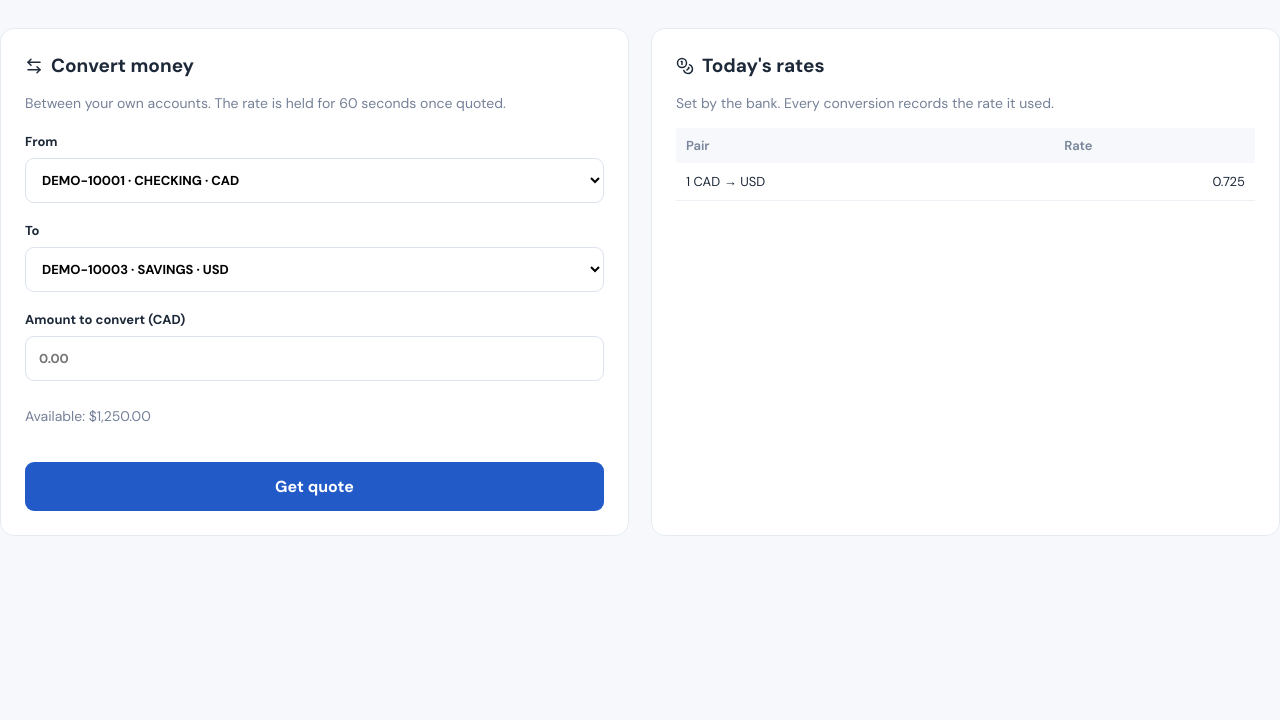
Test: Exchange › quotes, then converts at exactly the quoted rate
The width and height of the screenshot is (1280, 720).
Type "100" into the number field labelled "Amount to convert (CAD)" at (314, 359), box [25, 336, 604, 381]
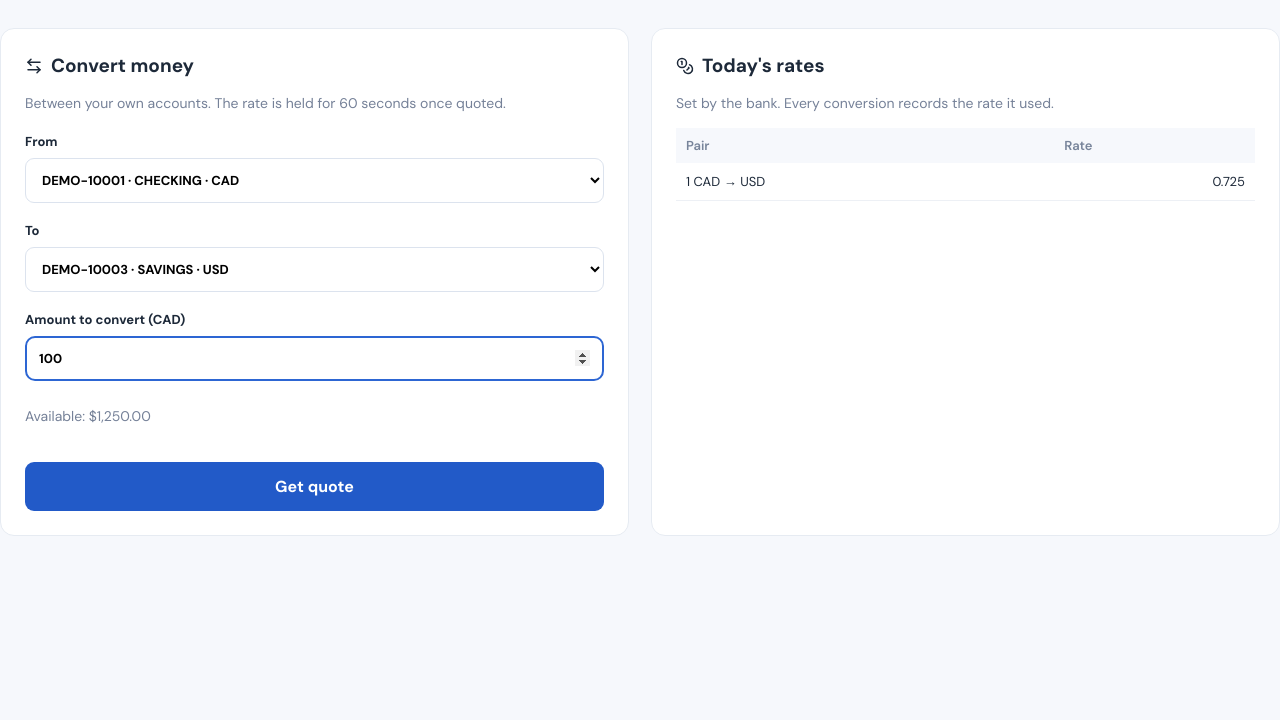
Click the button "Get quote" at (314, 486), box [25, 462, 604, 511]
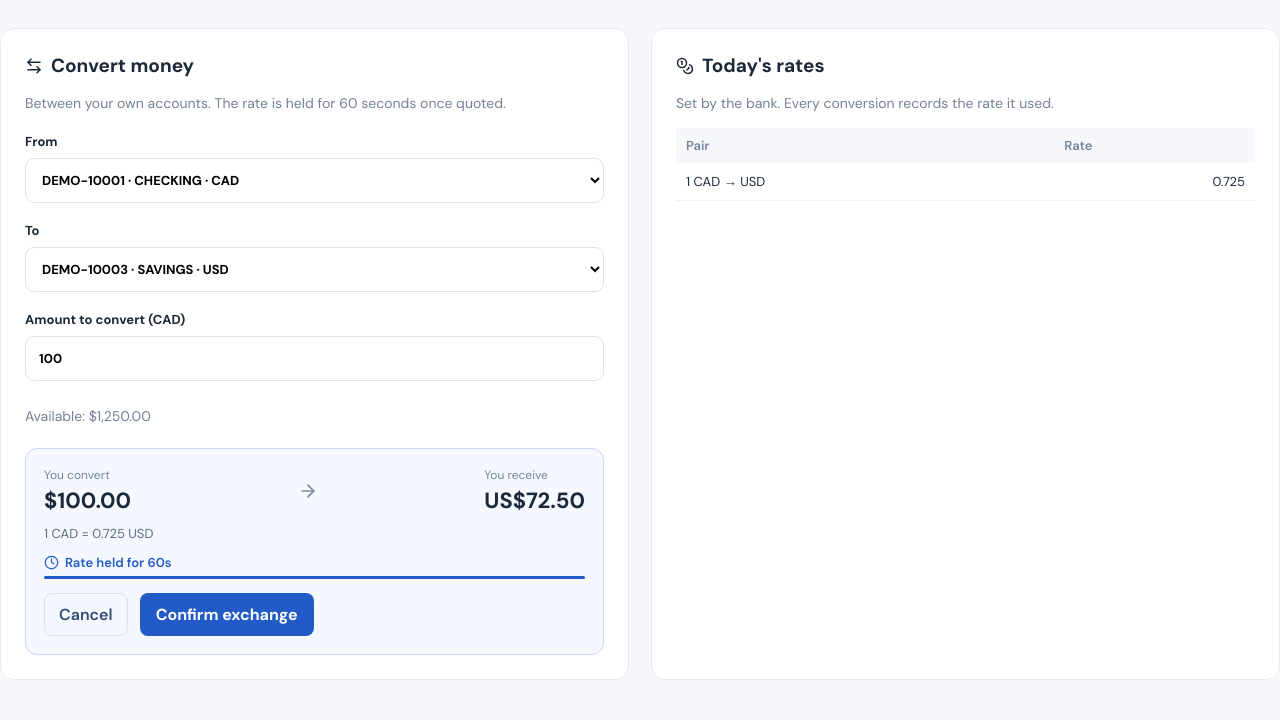
Expected: the text "US$72.50" is shown, [484, 486, 585, 515]
Expected: the text "1 CAD = 0.725 USD" is shown, [44, 525, 153, 542]
Expected: the text "Rate held for 60s" is shown, [44, 554, 585, 579]
Click the button "Confirm exchange" at (227, 614), box [140, 593, 314, 636]
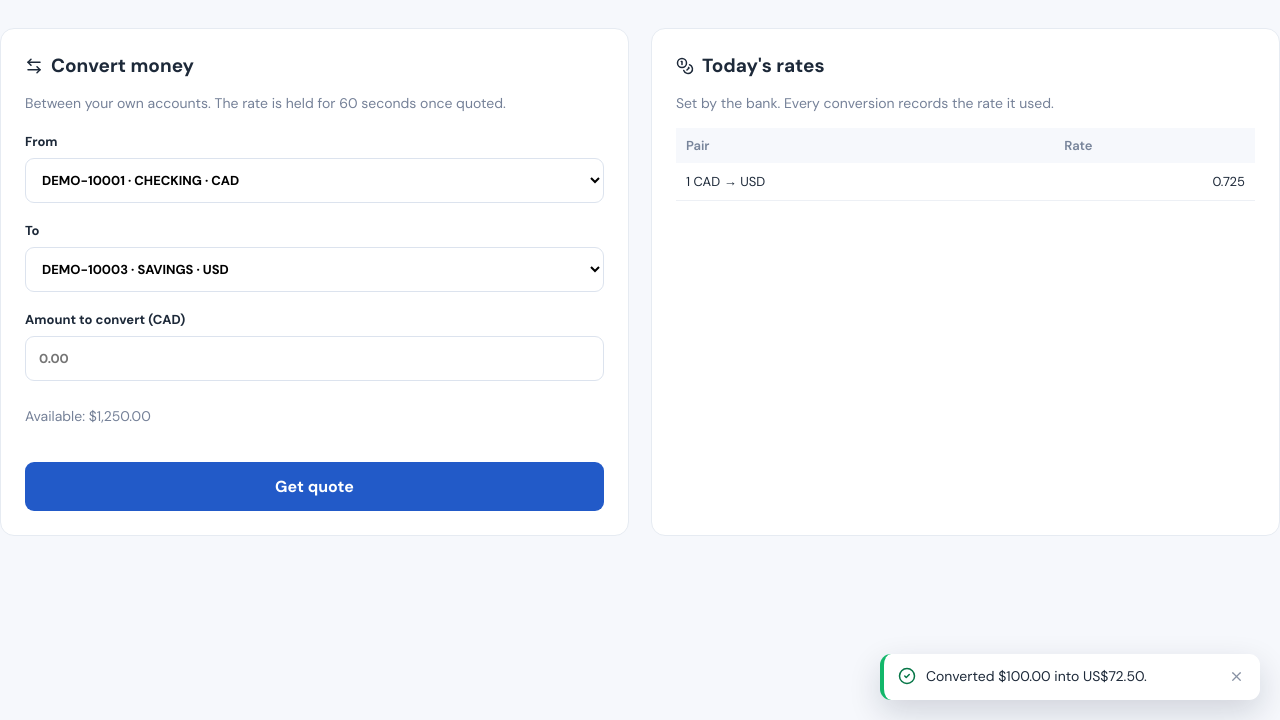
Expected: the text "Converted $100.00 into US$72.50." is shown, [926, 667, 1147, 685]
